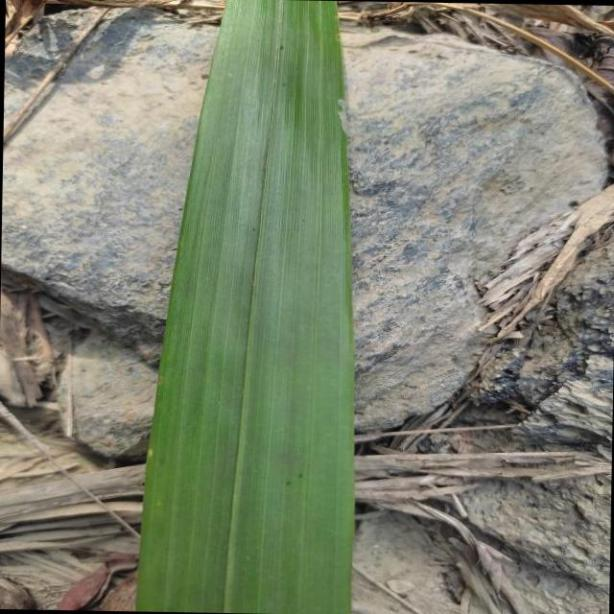Healthy: (137, 3, 353, 614)
